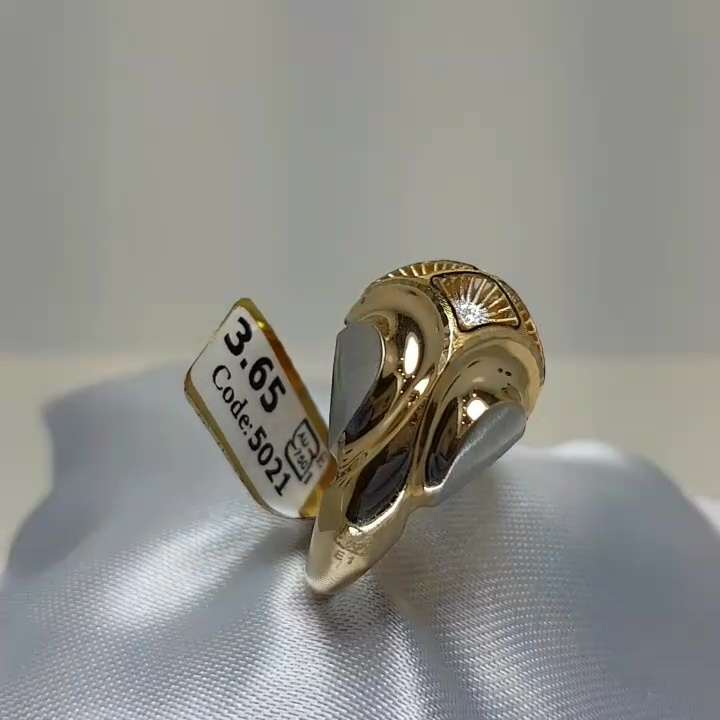Ring 2: (213, 221, 579, 637)
